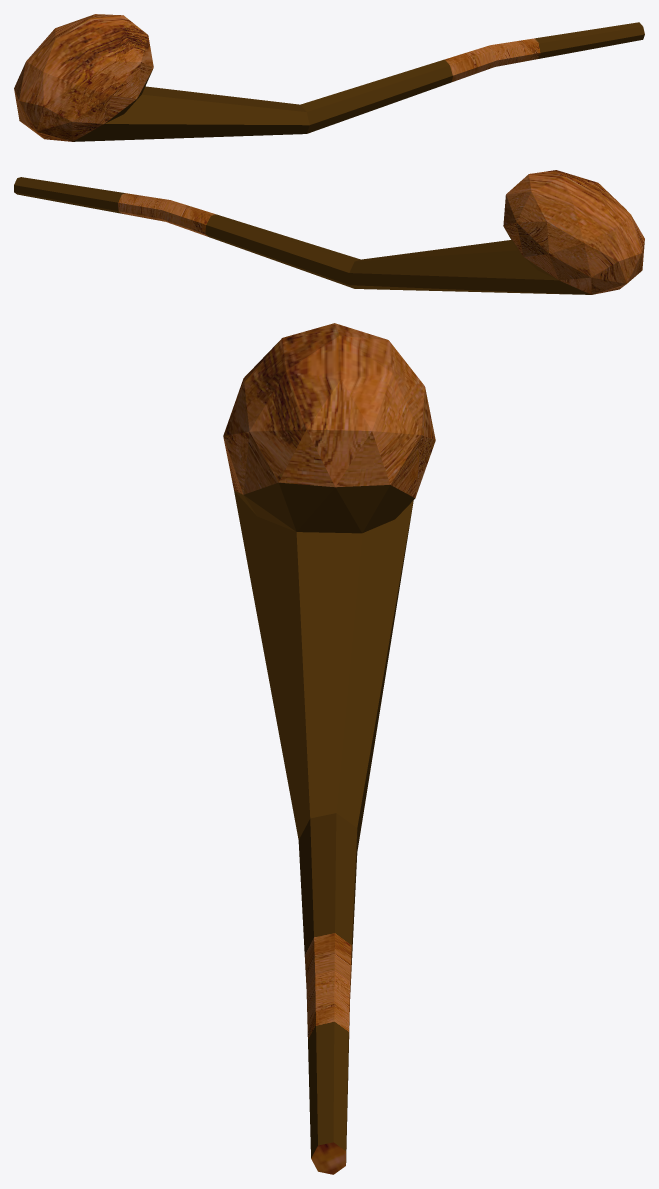
File: Shillelagh.fbx
3 views of the same model, one above another, from view 1: azimuth 30°, elevation 25°; view 2: azimuth 150°, elevation 25°; view 3: azimuth 270°, elevation 25° (orthographic). The views are drawn at different scales.
Visible parts, largest first — view 1: ZomboidShillelagh; view 2: ZomboidShillelagh; view 3: ZomboidShillelagh.
Part boxes in pixels (left/top/right/bottom): ZomboidShillelagh: left=14, top=14, right=644, bottom=141; ZomboidShillelagh: left=14, top=170, right=644, bottom=294; ZomboidShillelagh: left=223, top=323, right=435, bottom=1174.
Size of the model in its own units: 0.4605 by 0.1159 by 0.0681.
